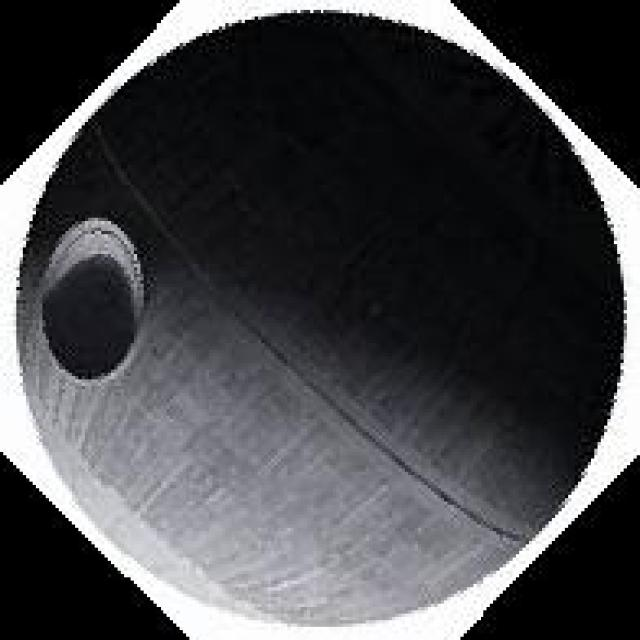Death Star: (0, 0, 637, 637)
